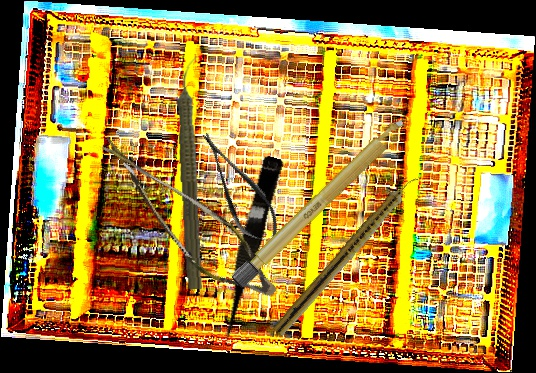Handpiece: (272, 170, 423, 340), (171, 55, 212, 290)
Micro Scissor: (67, 132, 300, 311), (188, 122, 292, 258), (211, 154, 285, 344)
Scalpel Handle: (230, 113, 413, 290)
